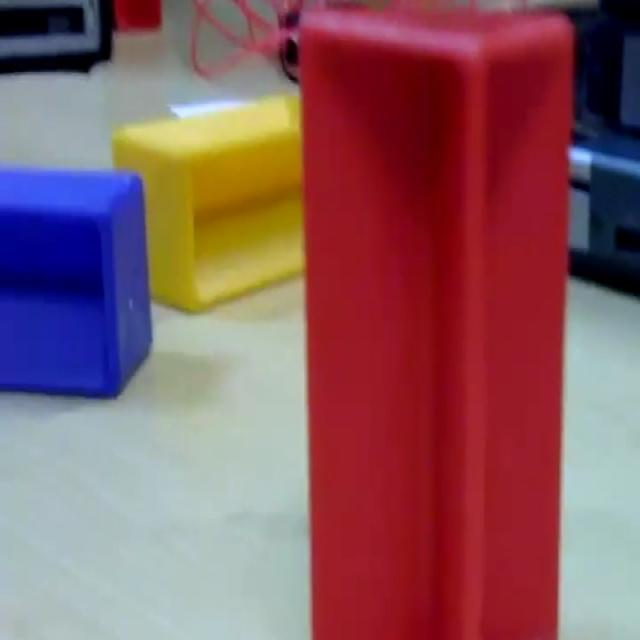blue_block: (0, 163, 153, 400)
red_block: (297, 7, 575, 636)
yellow_block: (110, 89, 305, 312)
